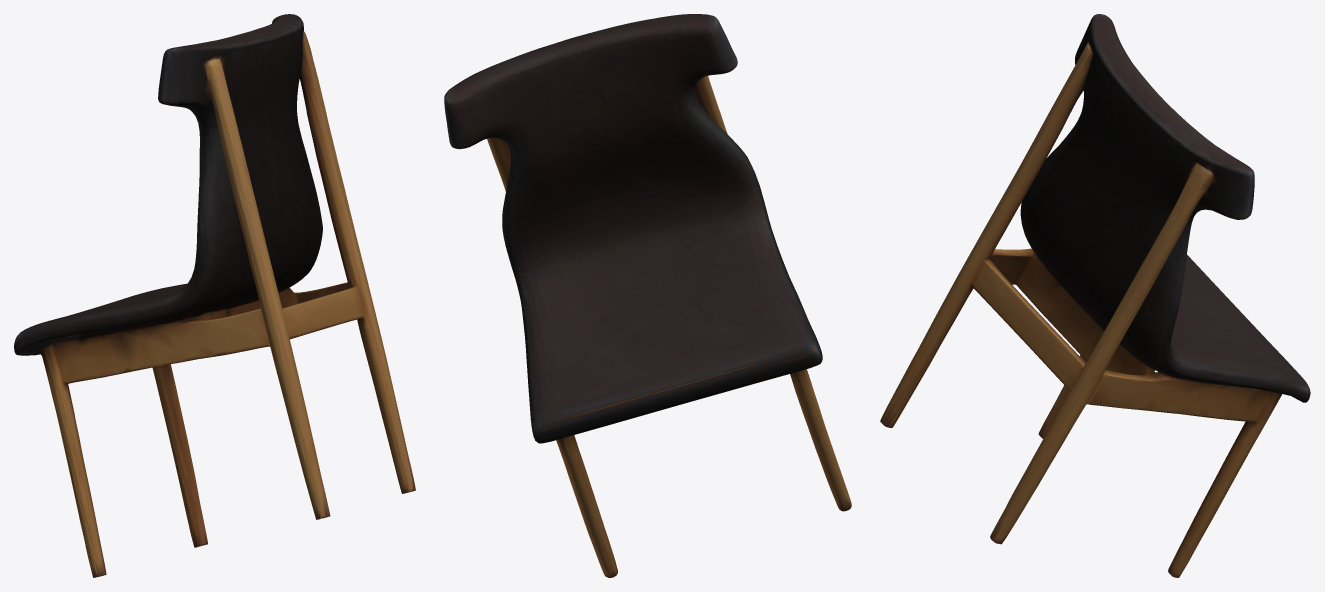
Rendered from dark_brown_leather_chair_in_the_back_000.glb.
3 renders of one model, left to right at view 1: azimuth 30°, elevation 25°; view 2: azimuth 150°, elevation 25°; view 3: azimuth 270°, elevation 25°, orthographic. The views are drawn at different scales.
Visible parts, largest first — view 1: dark_brown_leather_chair_in_the_back_000.obj; view 2: dark_brown_leather_chair_in_the_back_000.obj; view 3: dark_brown_leather_chair_in_the_back_000.obj.
Part boxes in pixels (bbox=[...]): dark_brown_leather_chair_in_the_back_000.obj: bbox=[14, 14, 415, 577]; dark_brown_leather_chair_in_the_back_000.obj: bbox=[444, 14, 851, 577]; dark_brown_leather_chair_in_the_back_000.obj: bbox=[880, 14, 1310, 577].
Size of the model in its own units: 0.5697 by 0.9035 by 0.6623.
1 material, 1 textured.
